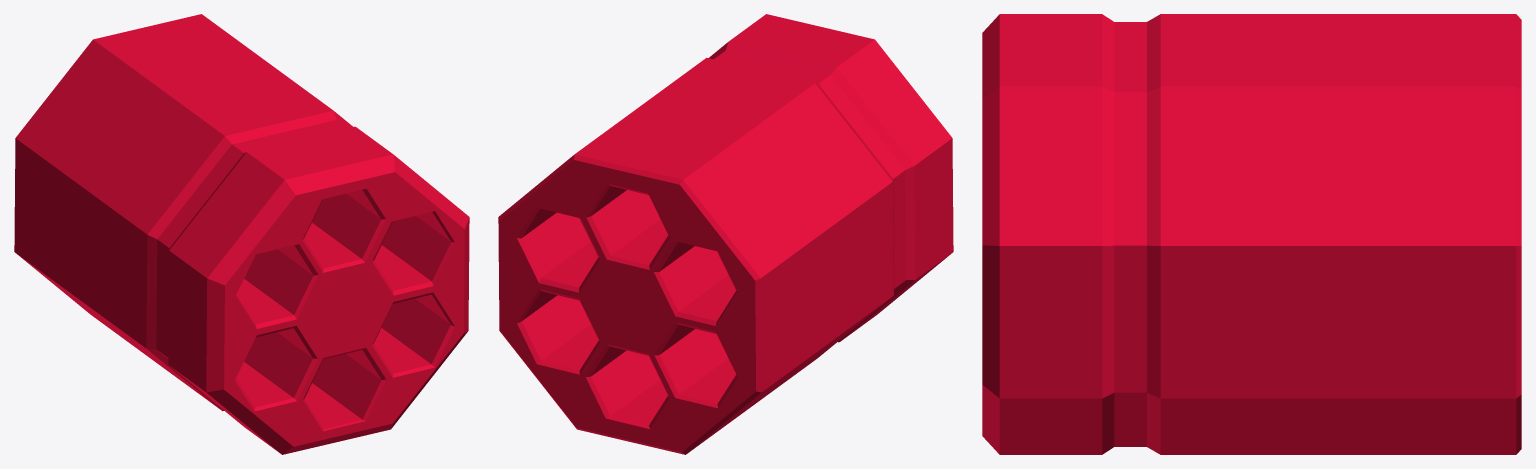
The model's file is TAMBOR_REVOLVER_LOW.fbx.
3 views of the same model, side by side, from view 1: azimuth 30°, elevation 25°; view 2: azimuth 150°, elevation 25°; view 3: azimuth 270°, elevation 25° (orthographic). The views are drawn at different scales.
Parts seen in each view (by area): view 1: Cylinder; view 2: Cylinder; view 3: Cylinder.
Part boxes in pixels (x1,y1,x2,y2): Cylinder: (14, 14, 469, 454); Cylinder: (498, 14, 953, 454); Cylinder: (982, 14, 1521, 454).
Bounding box in the file's own units: 30.15 × 30.15 × 39.72.
